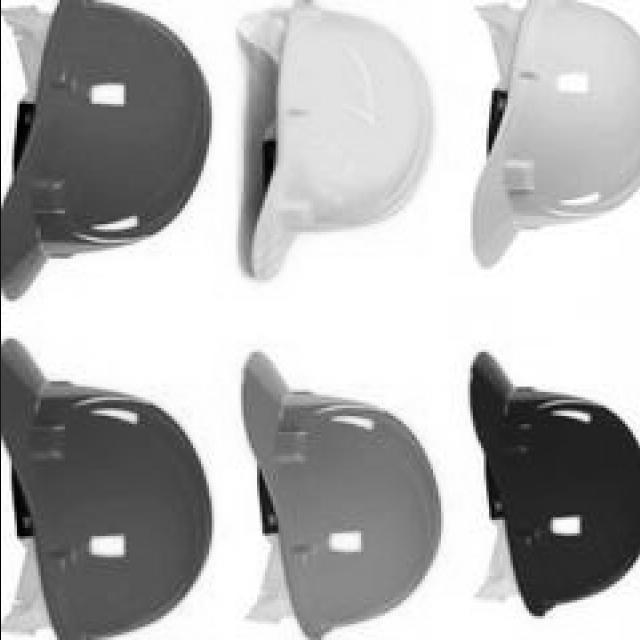safety_helmet: (0, 299, 213, 640), (0, 0, 211, 299)
